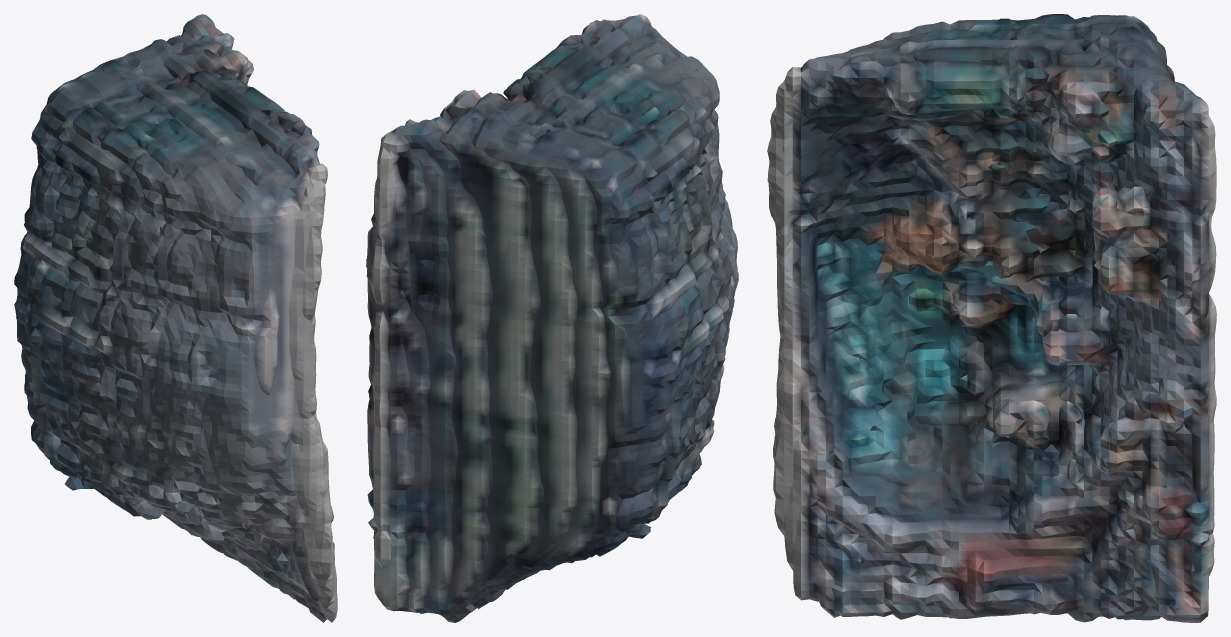
Rendered from building-research-lab.glb.
3 renders of one model, left to right at view 1: azimuth 30°, elevation 25°; view 2: azimuth 150°, elevation 25°; view 3: azimuth 270°, elevation 25°, orthographic. The views are drawn at different scales.
Visible parts, largest first — view 1: world; view 2: world; view 3: world.
Part boxes in pixels (x1,y1,x2,y2): world: (14, 14, 337, 622); world: (366, 14, 738, 622); world: (767, 14, 1216, 622).
Bounding box in the file's own units: 0.5567 × 1.01 × 0.74.
